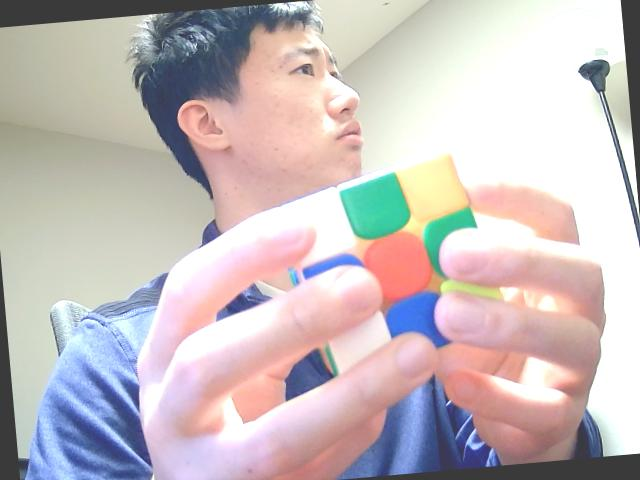Rubiks-Cube: (264, 138, 518, 398)
